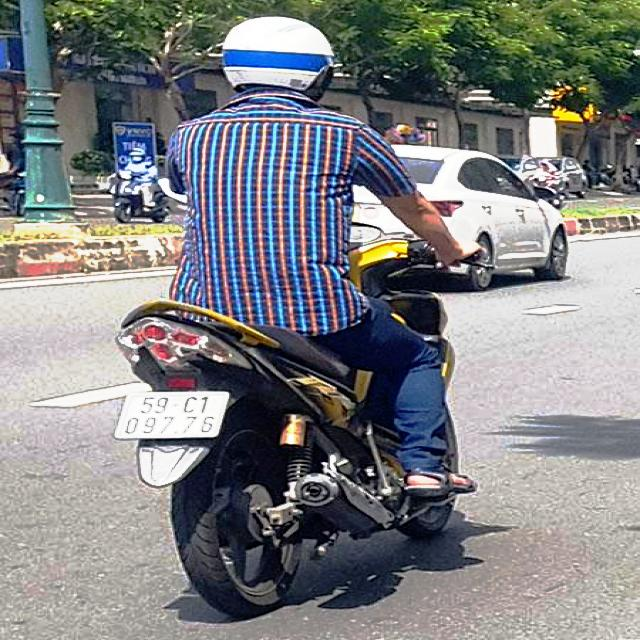license_plate: (118, 393, 229, 438)
